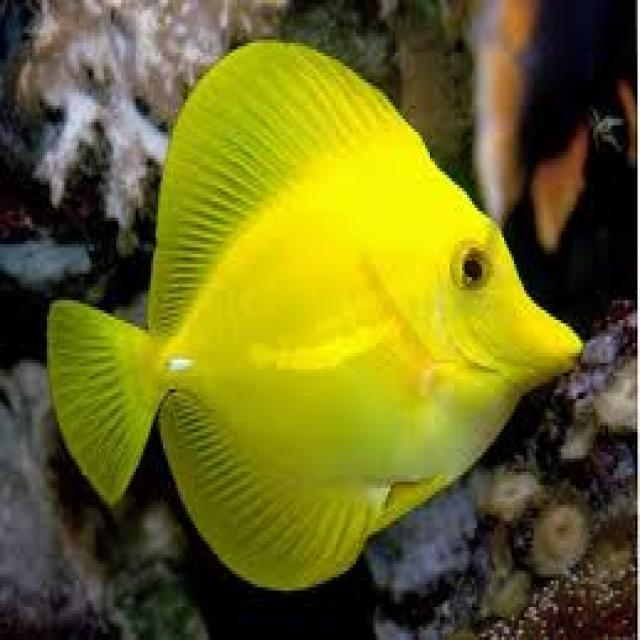YellowTang: (38, 31, 597, 597)
